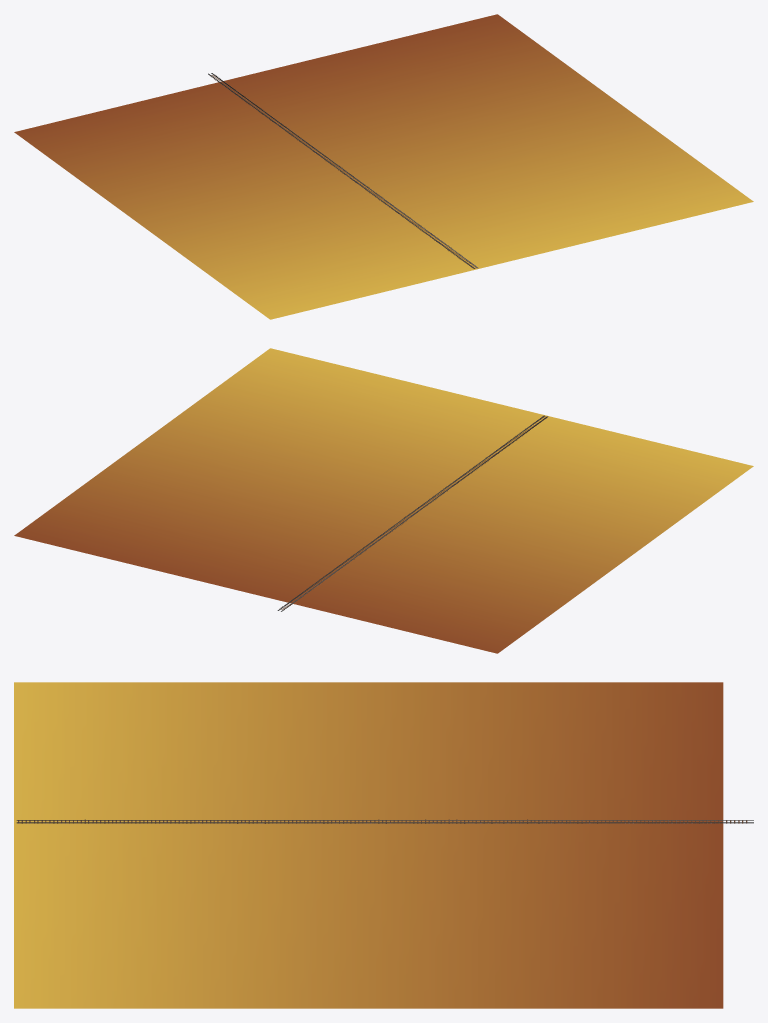
File: Level_LastetsVersion.fbx
The picture shows the model from 3 angles, top to bottom: view 1: azimuth 30°, elevation 25°; view 2: azimuth 150°, elevation 25°; view 3: azimuth 270°, elevation 25°; orthographic projection. The views are drawn at different scales.
Visible parts, largest first — view 1: Plane.001, Plane.002, Plane.003; view 2: Plane.001, Plane.002, Plane.003; view 3: Plane.001, Plane.002, Plane.003.
Boxes of the visible parts, x1=… form: Plane.001: x1=14, y1=14, x2=753, y2=319; Plane.002: x1=208, y1=73, x2=477, y2=268; Plane.003: x1=210, y1=75, x2=476, y2=268; Plane.001: x1=14, y1=348, x2=753, y2=653; Plane.002: x1=277, y1=415, x2=547, y2=611; Plane.003: x1=279, y1=416, x2=547, y2=609; Plane.001: x1=14, y1=682, x2=723, y2=1008; Plane.002: x1=16, y1=820, x2=753, y2=823; Plane.003: x1=18, y1=819, x2=747, y2=823.
Size of the model in its own units: 27110 by 12.76 by 25958.
